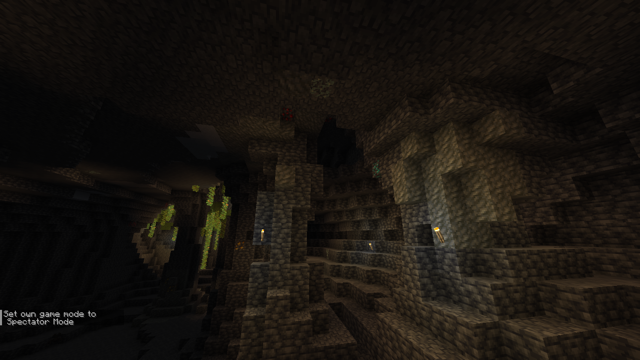diamond: (370, 163, 383, 178)
gold: (234, 240, 244, 251)
redstone: (280, 105, 296, 123)
